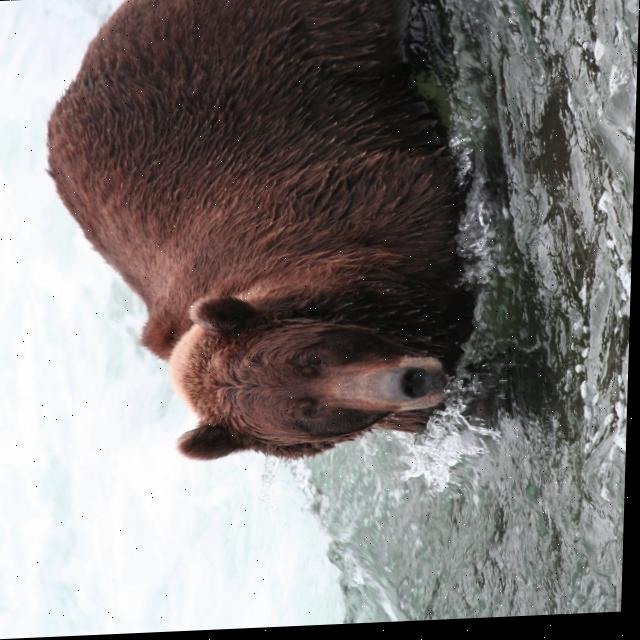bear face: (42, 0, 477, 473)
